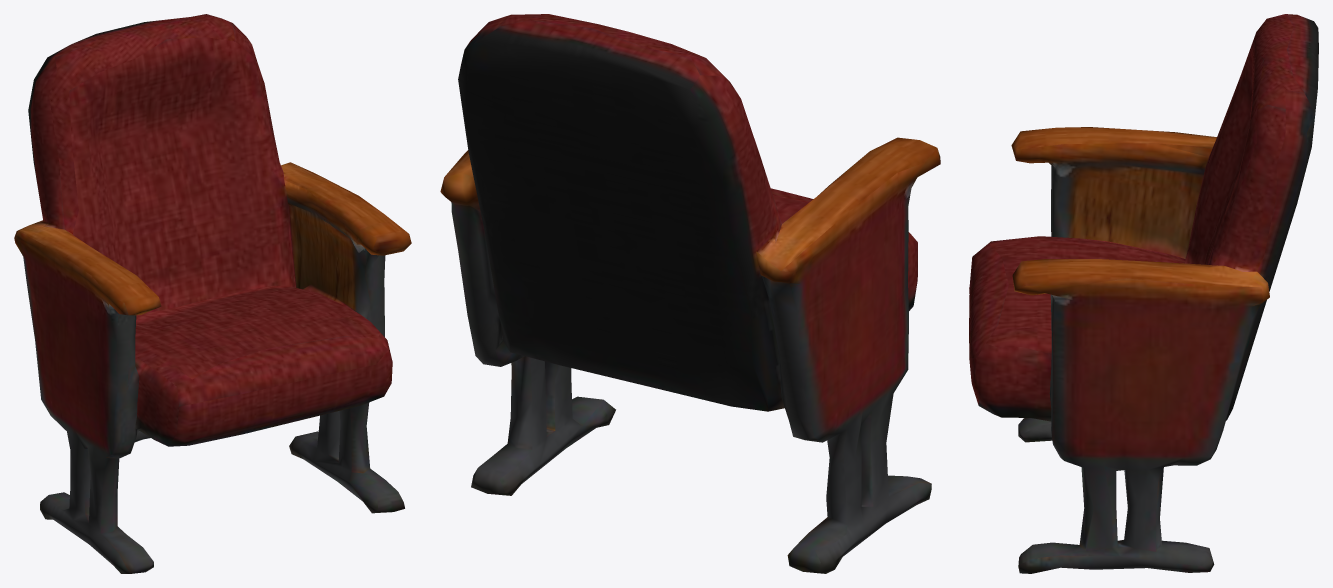
Rendered from balcony_seat.glb.
3 renders of one model, left to right at view 1: azimuth 30°, elevation 25°; view 2: azimuth 150°, elevation 25°; view 3: azimuth 270°, elevation 25°, orthographic. The views are drawn at different scales.
Size of the model in its own units: 0.7233 by 1.01 by 0.6992.
1 material, 1 textured.
